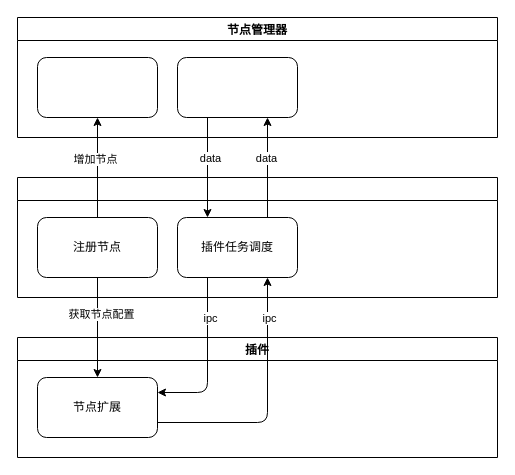
Some shapes in this 515 by 475 pixel diagram are drawn without their labels. Here are the shapes that lost their labels. From the top down, the box of each, then its label:
(36, 56, 158, 118): 节点列表
(176, 56, 298, 118): 运行时
(16, 176, 498, 298): 插件管理器
